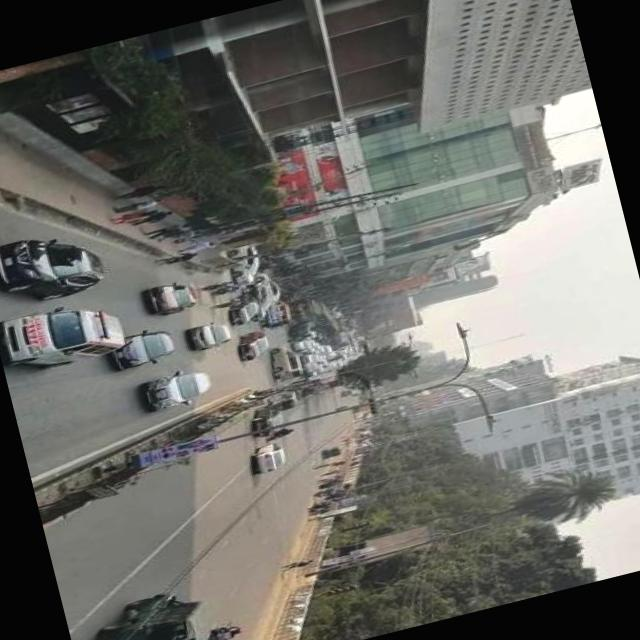bus: (264, 300, 300, 332)
car: (0, 222, 110, 312), (94, 585, 218, 640), (143, 367, 217, 415), (112, 325, 182, 373), (148, 278, 203, 320), (245, 280, 281, 324), (192, 319, 238, 352), (252, 441, 292, 477), (253, 402, 290, 439), (230, 292, 266, 328), (240, 329, 278, 363), (259, 270, 285, 304), (304, 350, 324, 364), (306, 362, 322, 374)
motorcycle: (205, 624, 234, 640), (325, 444, 347, 460), (270, 428, 292, 442), (216, 288, 237, 298)
truck: (0, 293, 131, 378), (228, 244, 268, 288), (272, 342, 308, 382)
